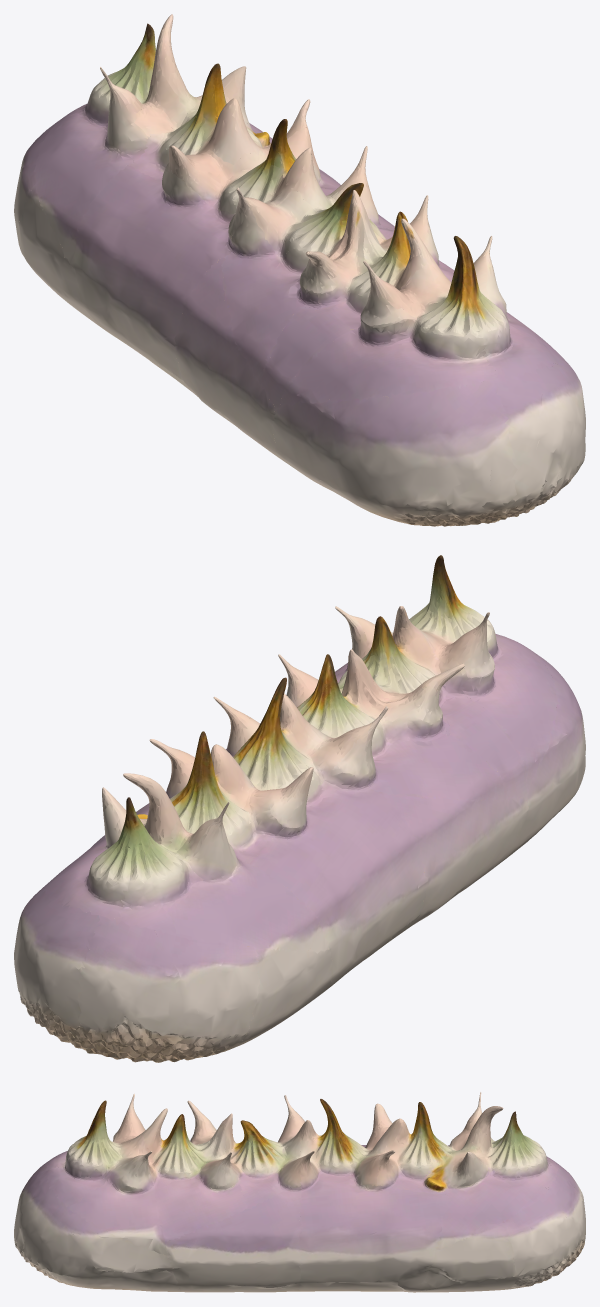
File: 06_4_yellowdot_eclair2_sculpture.glb
3 renders of one model, top to bottom at view 1: azimuth 30°, elevation 25°; view 2: azimuth 150°, elevation 25°; view 3: azimuth 270°, elevation 25°, orthographic. The views are drawn at different scales.
Visible parts, largest first — view 1: exlair2.001; view 2: exlair2.001; view 3: exlair2.001.
Boxes of the visible parts, x1,y1,x2,y2 form: exlair2.001: [14, 14, 585, 526]; exlair2.001: [14, 555, 585, 1062]; exlair2.001: [14, 1092, 585, 1292].
Size of the model in its own units: 0.0428 by 0.0398 by 0.125.
Materials: 1 (1 with a texture image).
